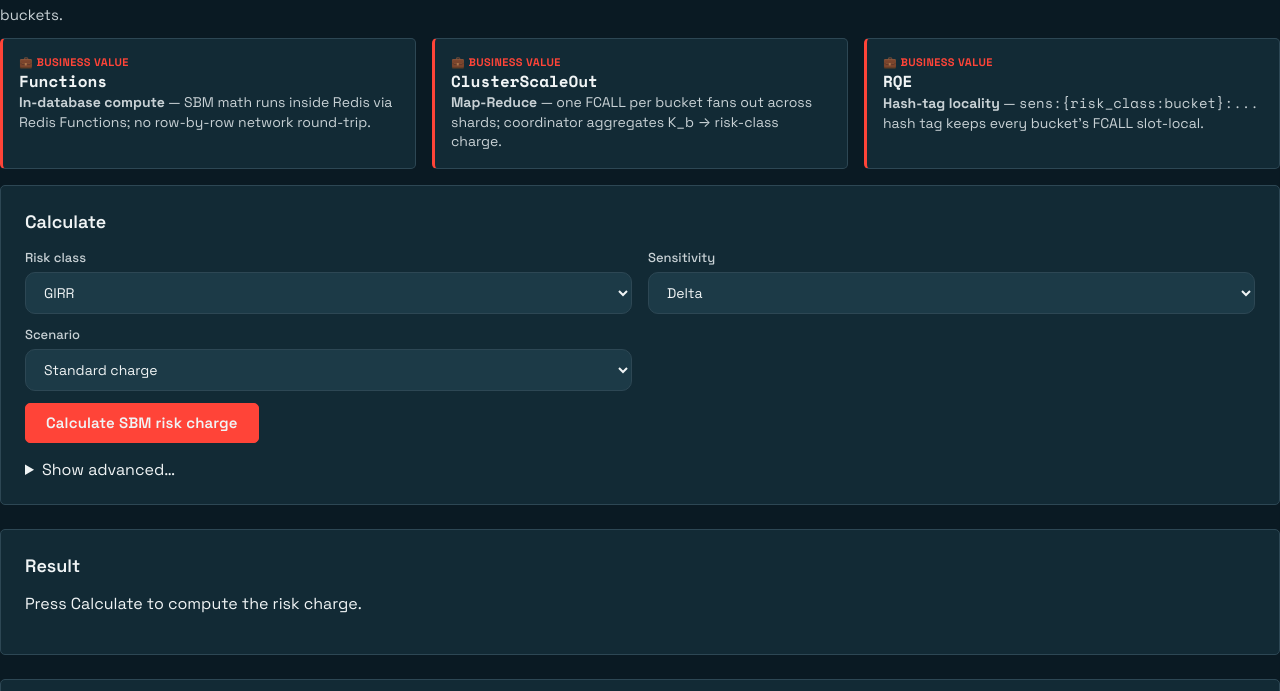
CalcPanel Wave 5.18 polish + drill-down › Wave 5.21a: Equity Curvature drill-down reads cvr_up/cvr_down scalars (not up/down)
Select "Equity" in the dropdown labelled "Risk class" at (328, 293), box [25,272,632,314]
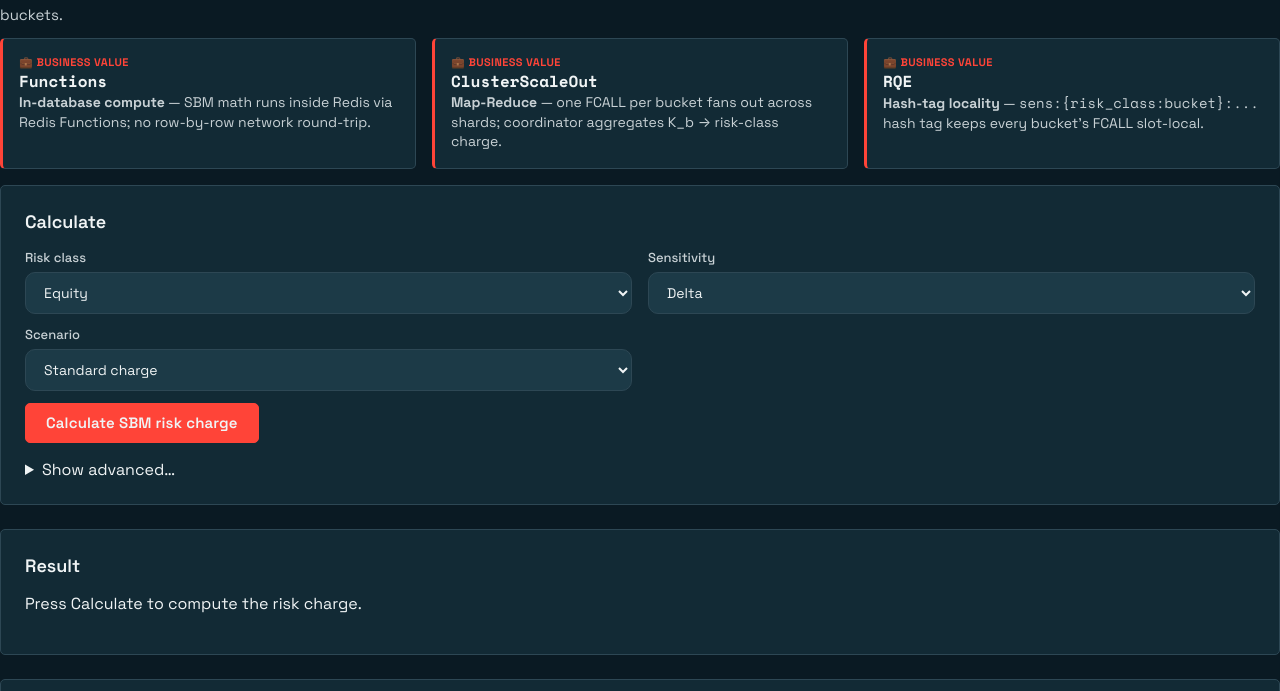
Select "Curvature" in the dropdown labelled "Sensitivity" at (952, 293), box [648,272,1255,314]
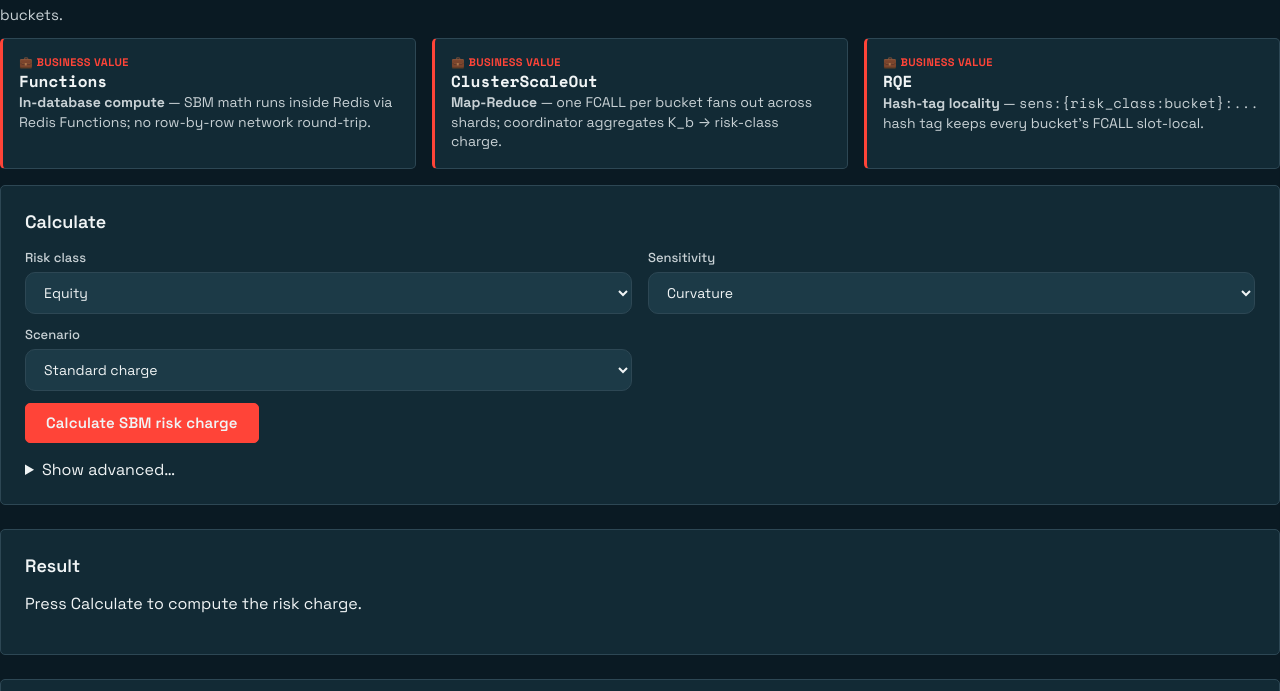
Click the button "Calculate SBM risk charge" at (142, 423), box [25,403,259,443]
(page scrolled)
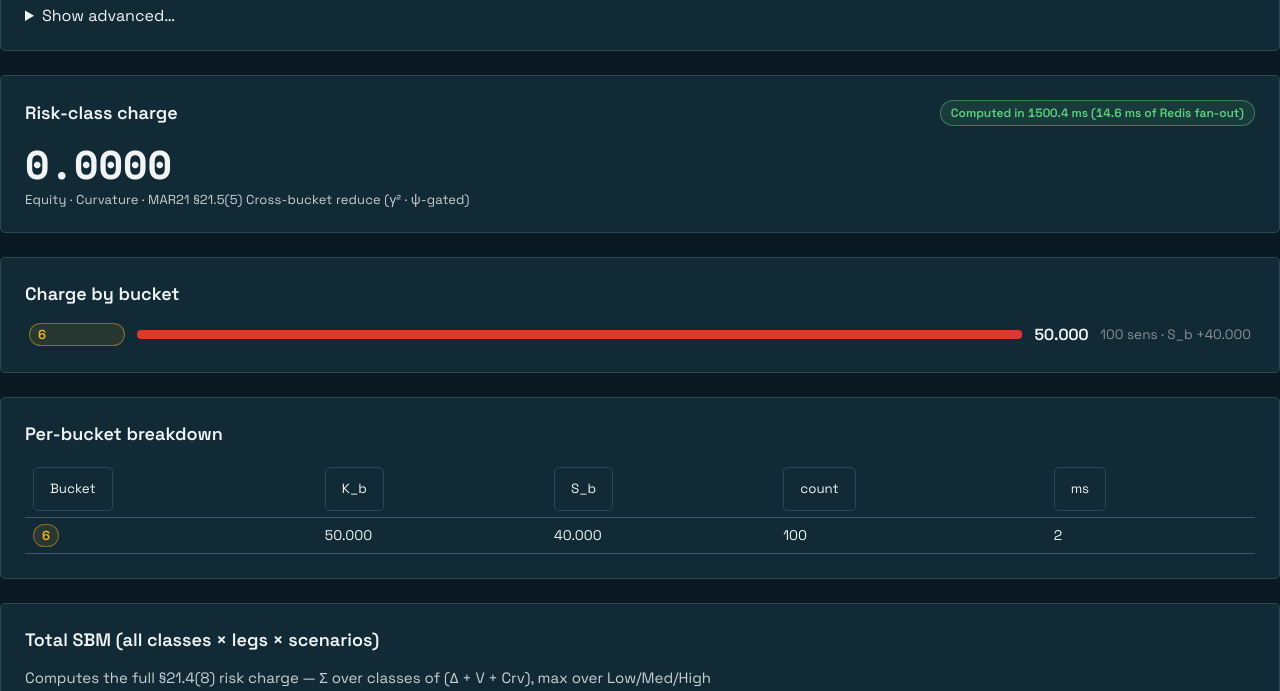
Now the text "0.0000" is shown, box [25,142,172,186]
Click the button with test id "bucket-chart-row" at (640, 334), box [25,321,1255,348]
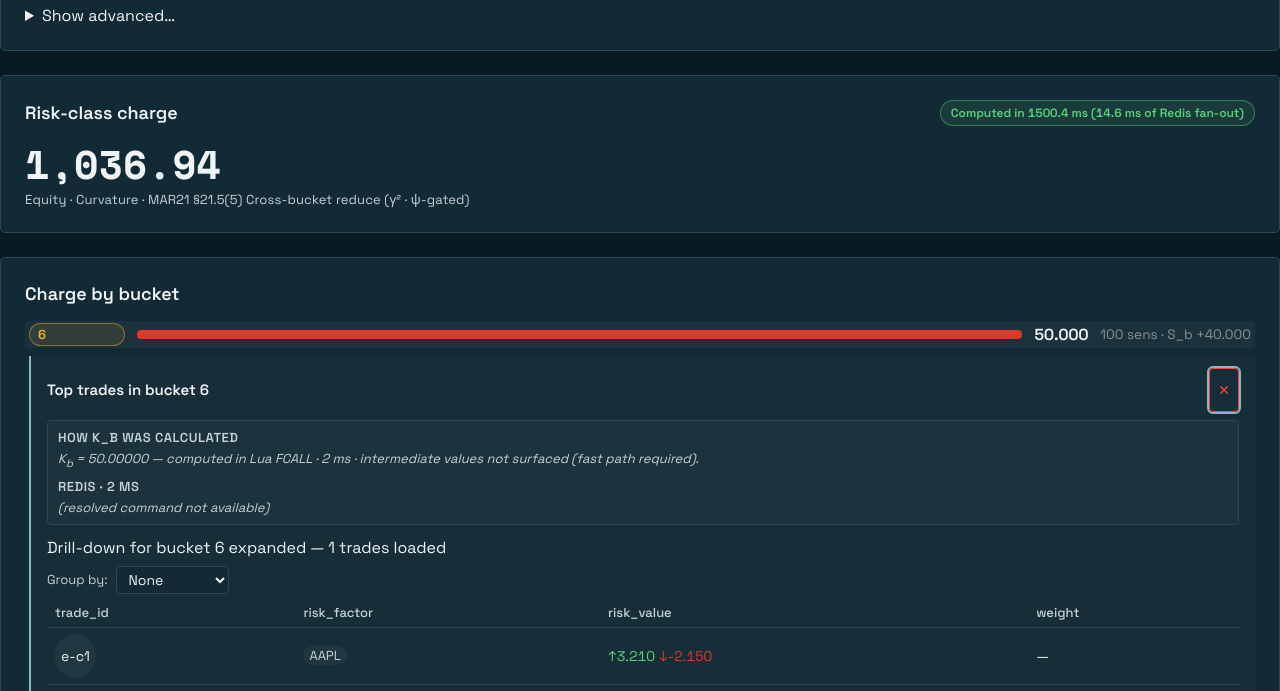
Now the row with test id "drilldown-row" is shown, box [47,627,1239,684]
